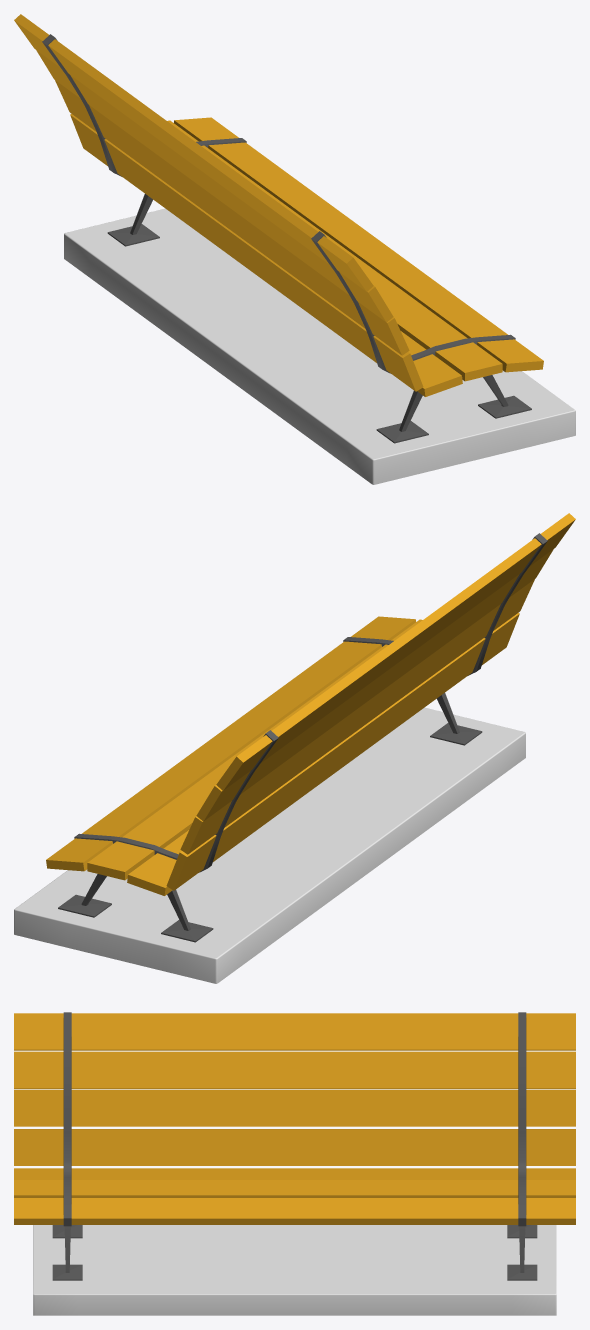
Rendered from Park Bench.fbx.
The picture shows the model from 3 angles, top to bottom: view 1: azimuth 30°, elevation 25°; view 2: azimuth 150°, elevation 25°; view 3: azimuth 270°, elevation 25°; orthographic projection. The views are drawn at different scales.
Parts seen in each view (by area): view 1: Cube; view 2: Cube; view 3: Cube.
Part boxes in pixels (x1=…): Cube: x1=14, y1=14, x2=575, y2=484; Cube: x1=14, y1=513, x2=575, y2=983; Cube: x1=14, y1=1012, x2=575, y2=1315.
Bounding box in the file's own units: 112 × 108 × 267.
